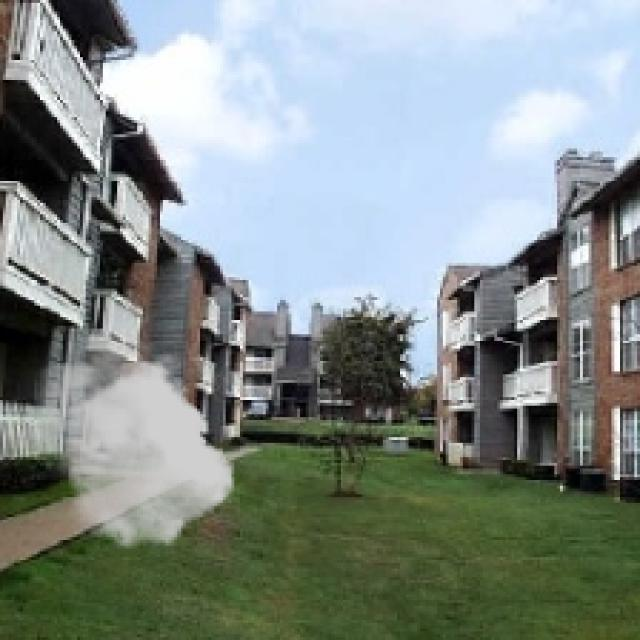Smoke: (34, 328, 234, 548)
